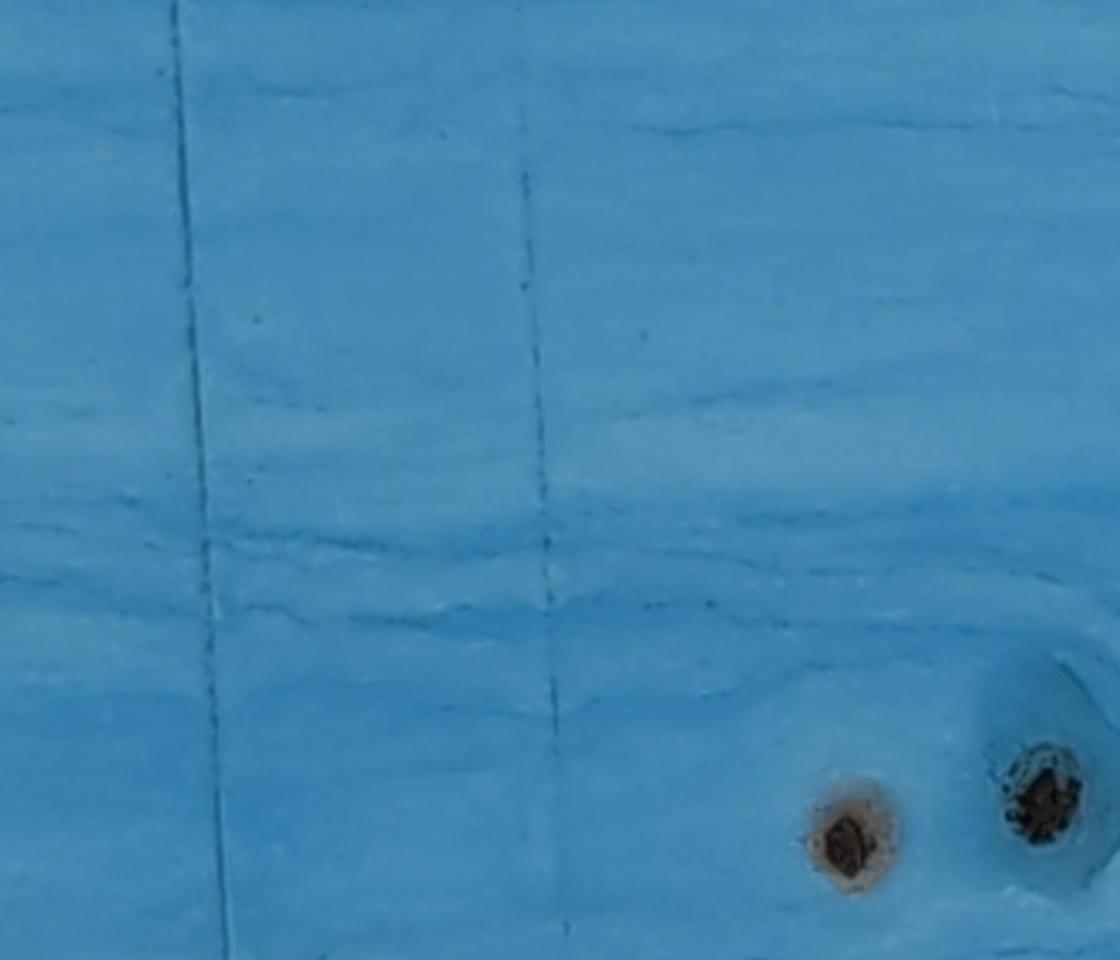rust: (1013, 764, 1084, 850), (822, 813, 876, 881)
